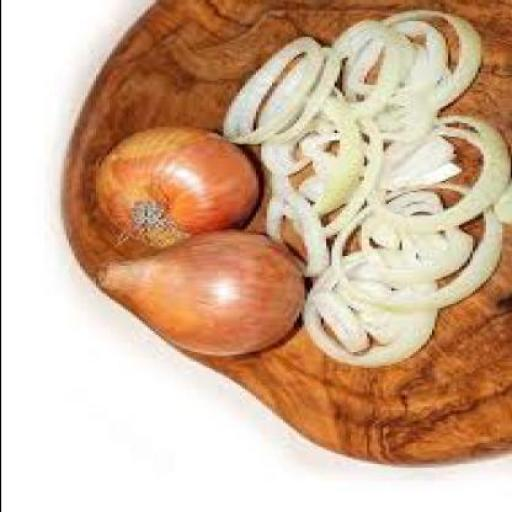biodegradable: (98, 233, 301, 354), (325, 184, 498, 314), (90, 129, 255, 250), (355, 117, 504, 235), (295, 252, 431, 372), (363, 14, 476, 142), (263, 116, 379, 236), (217, 38, 320, 150), (314, 21, 406, 127), (254, 54, 334, 150), (266, 90, 346, 170), (260, 200, 317, 279), (488, 181, 510, 229)
